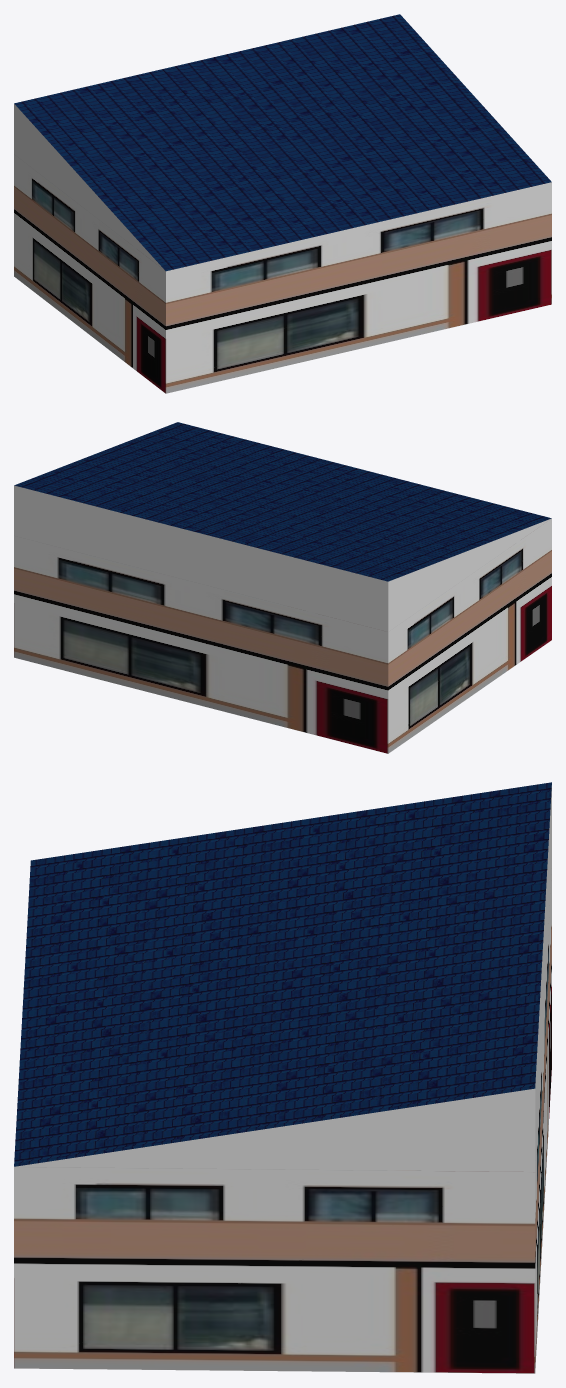
3 views of the same model, one above another, from view 1: azimuth 30°, elevation 25°; view 2: azimuth 150°, elevation 25°; view 3: azimuth 270°, elevation 25° (orthographic). The views are drawn at different scales.
Parts seen in each view (by area): view 1: CityEngineMaterial_6_m, CityEngineMaterial_5_m, CityEngineMaterial_3_m; view 2: CityEngineMaterial_5_m, CityEngineMaterial_6_m, CityEngineMaterial_3_m; view 3: CityEngineMaterial_6_m, CityEngineMaterial_5_m, CityEngineMaterial_3_m.
Boxes of the visible parts, box(x1,y1,x2,y2) form: CityEngineMaterial_6_m: box(14, 14, 551, 271); CityEngineMaterial_5_m: box(14, 154, 551, 393); CityEngineMaterial_3_m: box(14, 104, 164, 270); CityEngineMaterial_5_m: box(14, 518, 551, 753); CityEngineMaterial_6_m: box(14, 422, 551, 581); CityEngineMaterial_3_m: box(14, 485, 550, 631); CityEngineMaterial_6_m: box(14, 782, 551, 1166); CityEngineMaterial_5_m: box(14, 869, 551, 1373); CityEngineMaterial_3_m: box(14, 785, 551, 1171).
Bounding box in the file's own units: 30.69 × 13.1 × 22.41.
